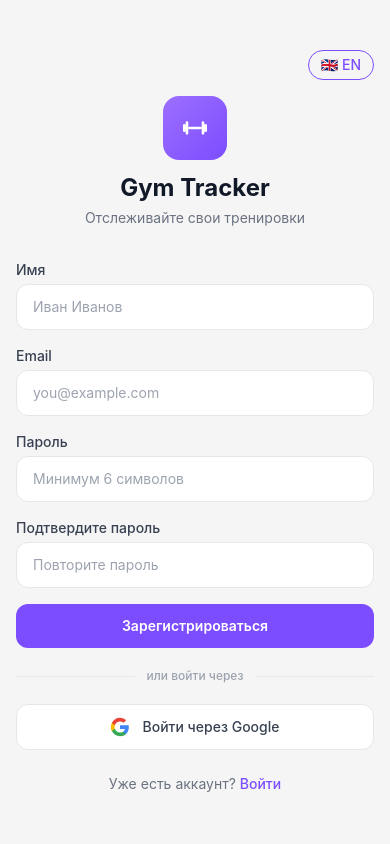
Test: Register Page — пользовательские сценарии › показывает ошибку если имя меньше 2 символов
Type "И" into the field with placeholder "Иван Иванов" at (195, 307), box [16,284,374,330]
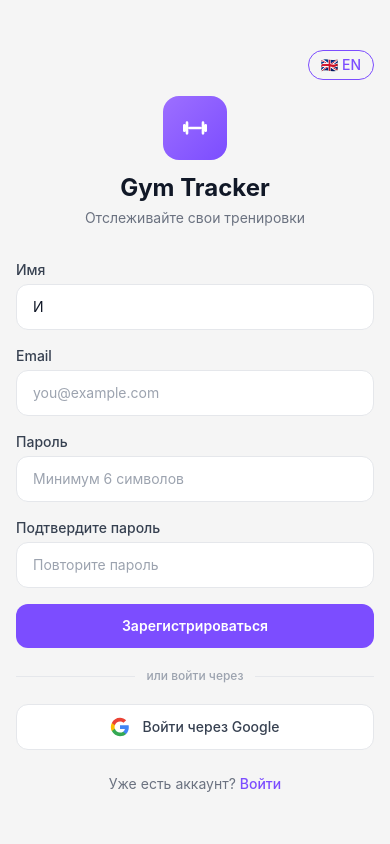
Type "ivan@test.com" into the field with placeholder "you@example.com" at (195, 393), box [16,370,374,416]
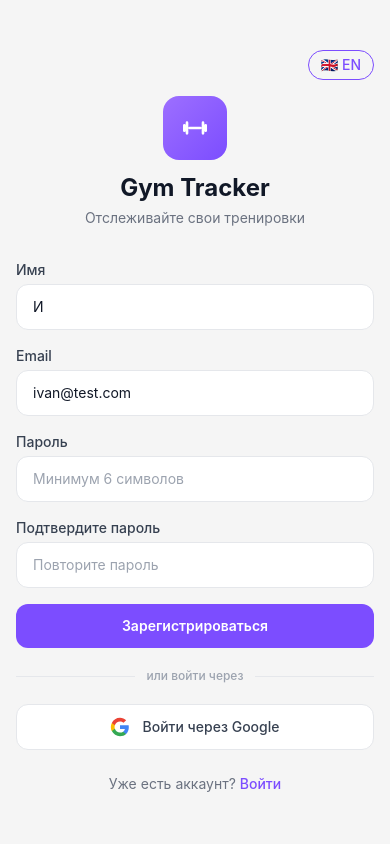
Type "password123" into the password field with placeholder "Минимум 6 символов" at (195, 479), box [16,456,374,502]
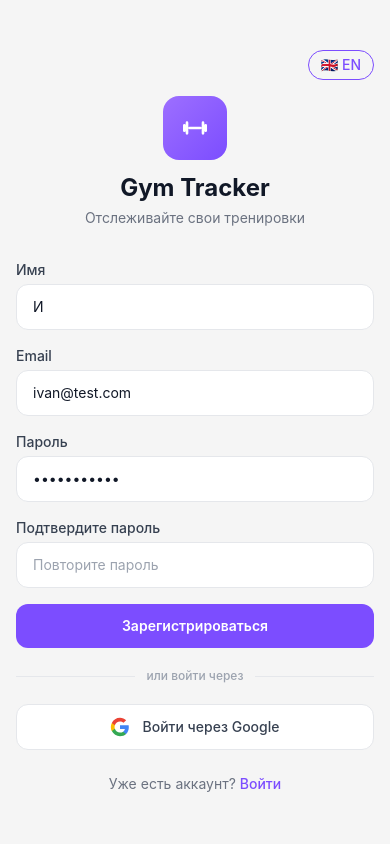
Type "password123" into the password field with placeholder "Повторите пароль" at (195, 565), box [16,542,374,588]
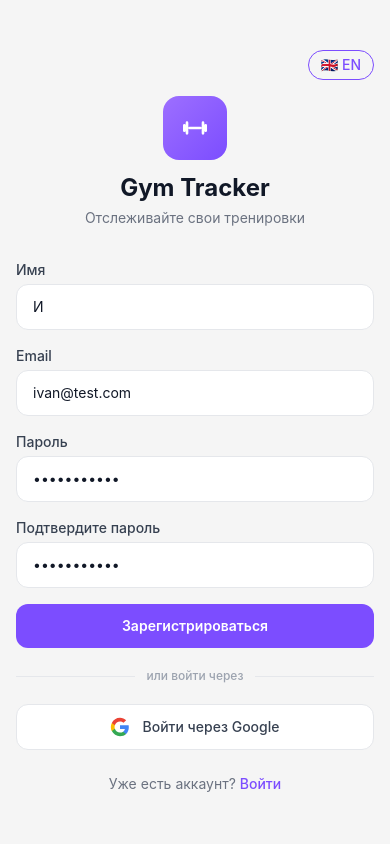
Click the button "Зарегистрироваться" at (195, 626), box [16,604,374,648]
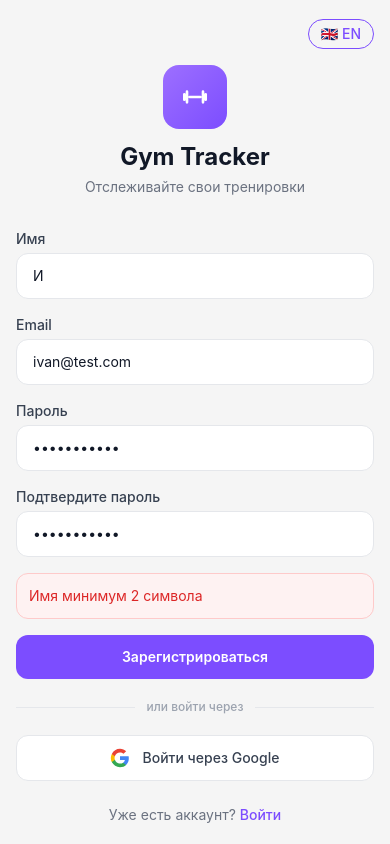
Check: the text "Имя минимум 2 символа" is shown, box [16,573,374,619]
